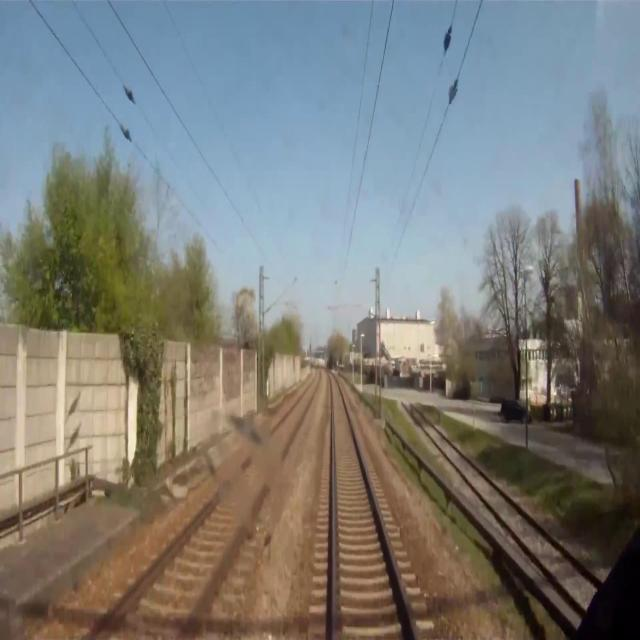rail-track: (98, 372, 318, 639), (413, 411, 596, 603), (331, 375, 414, 639)
